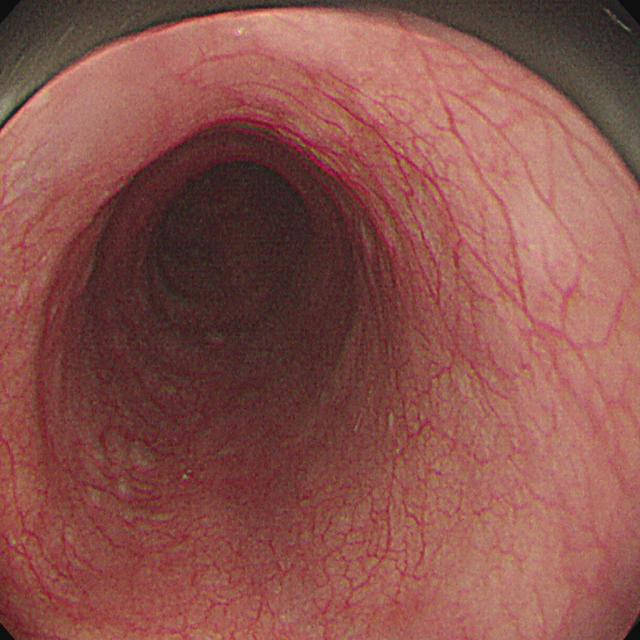E: (155, 167, 309, 323)
